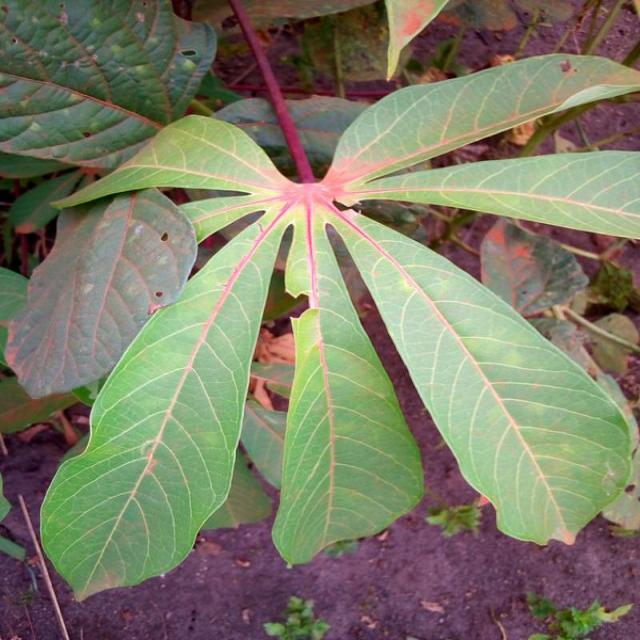cassava leaf: (29, 49, 638, 602), (325, 201, 634, 547), (38, 206, 289, 603), (270, 205, 424, 567), (2, 186, 198, 400)
